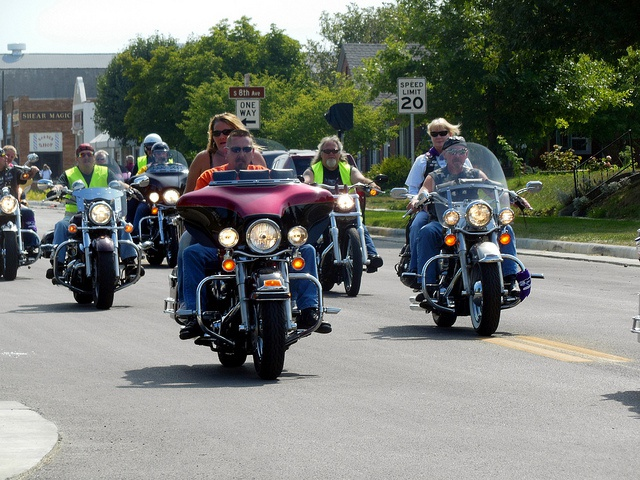non-vehicle: (164, 137, 333, 378), (390, 142, 544, 334), (37, 151, 149, 310), (297, 174, 387, 296), (128, 149, 189, 267), (0, 165, 39, 281)
